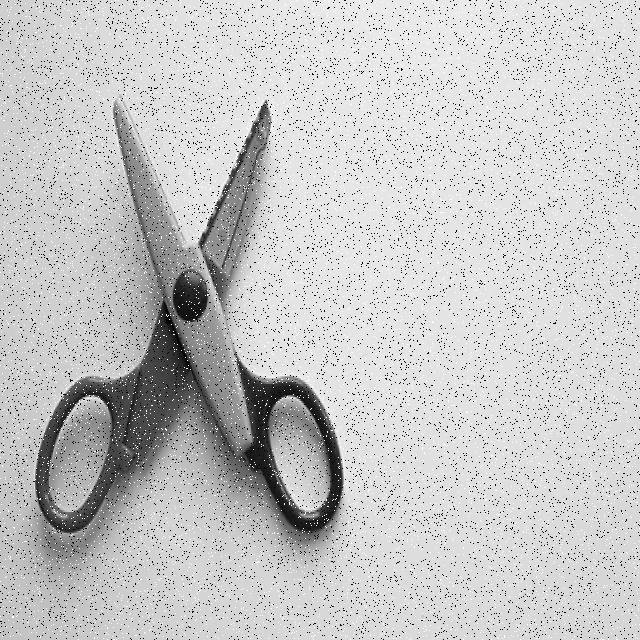scissors: (31, 88, 345, 542)
